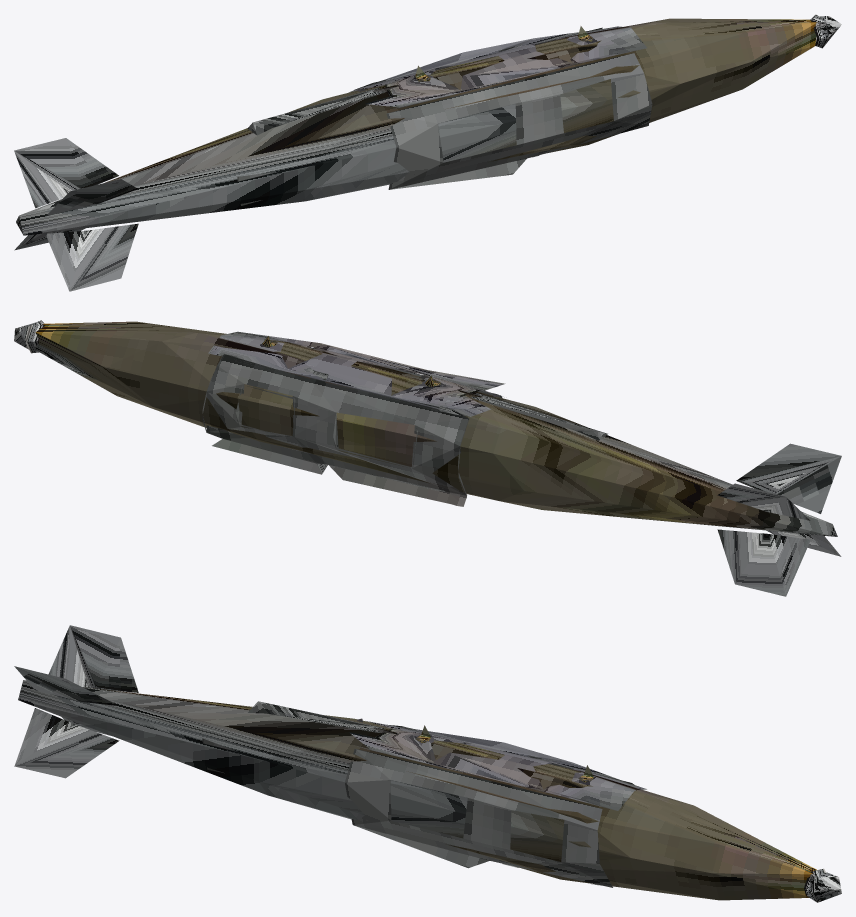
3 renders of one model, top to bottom at view 1: azimuth 30°, elevation 25°; view 2: azimuth 150°, elevation 25°; view 3: azimuth 330°, elevation 25°, orthographic.
Parts seen in each view (by area): view 1: Object_2; view 2: Object_2; view 3: Object_2.
Boxes of the visible parts, box(x1,y1,x2,y2) form: Object_2: box(14, 14, 841, 291); Object_2: box(14, 320, 841, 596); Object_2: box(14, 625, 841, 902).
Size of the model in its own units: 3.84 by 0.4993 by 0.4557.
1 material, 1 textured.
